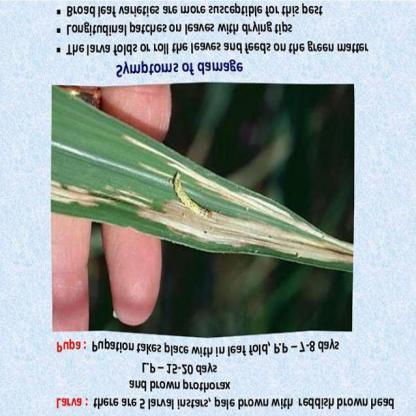leaf-folder: (170, 165, 220, 225)
